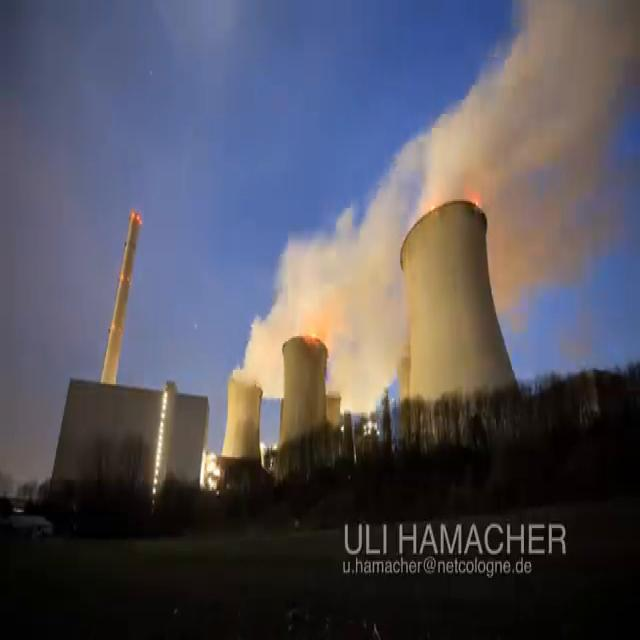smoke: (228, 0, 640, 452)
